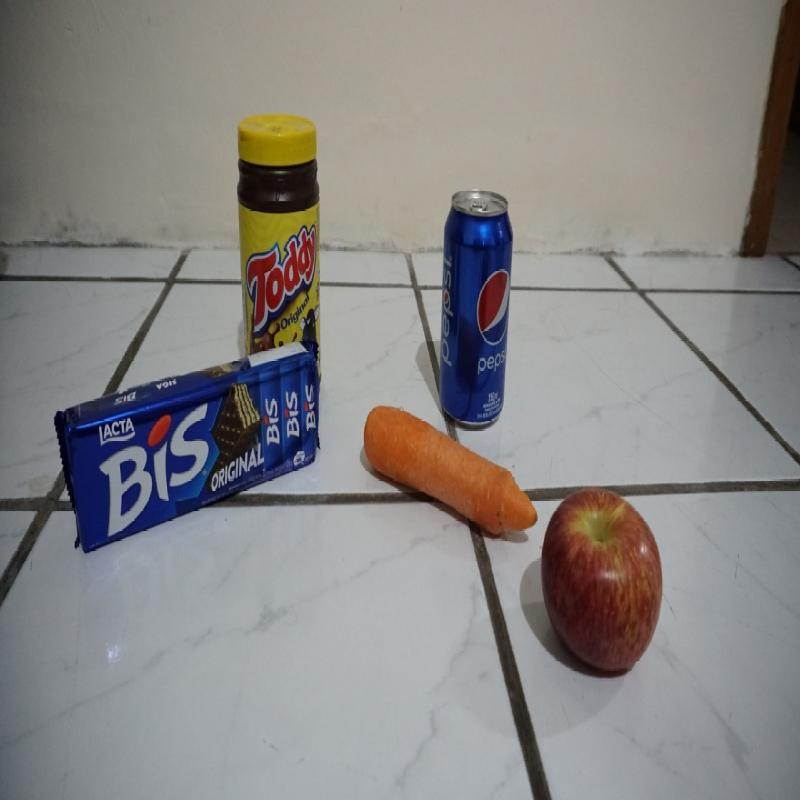Apple: (544, 471, 668, 680)
Carrot: (360, 420, 540, 554)
Chocolate Powder: (235, 111, 324, 338)
Soda can: (440, 186, 508, 417)
